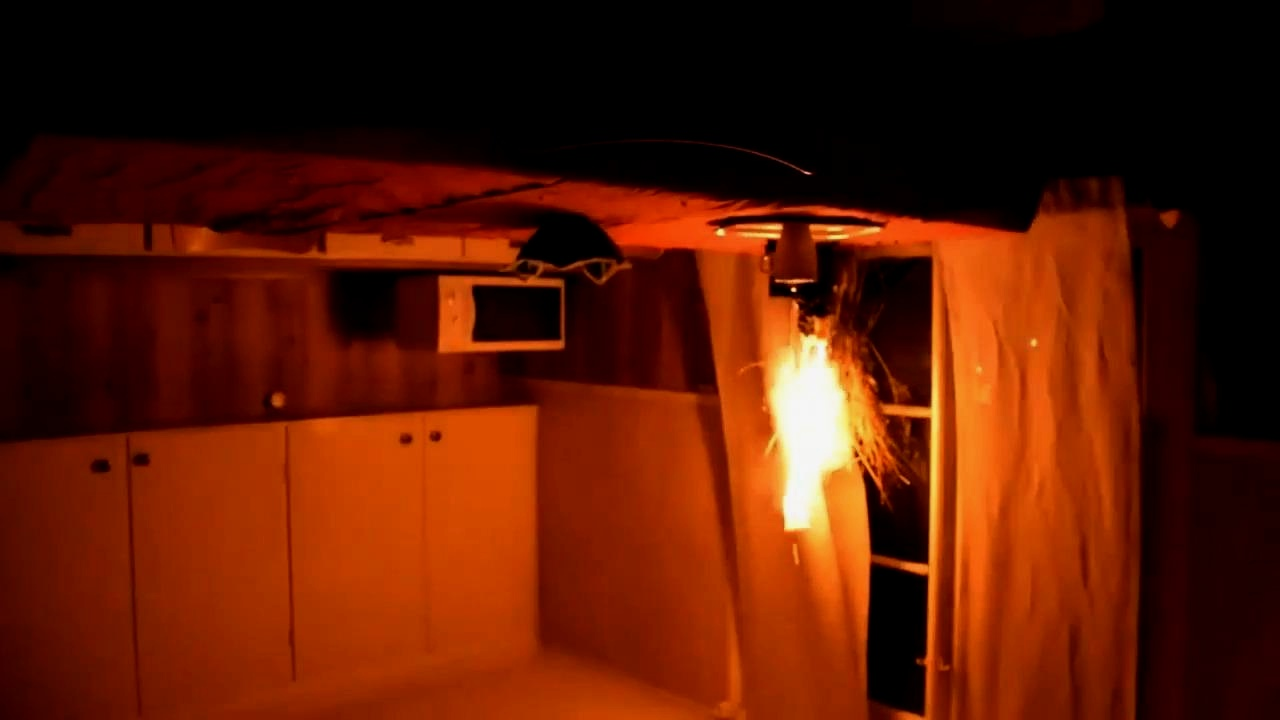fire: (737, 304, 898, 557)
